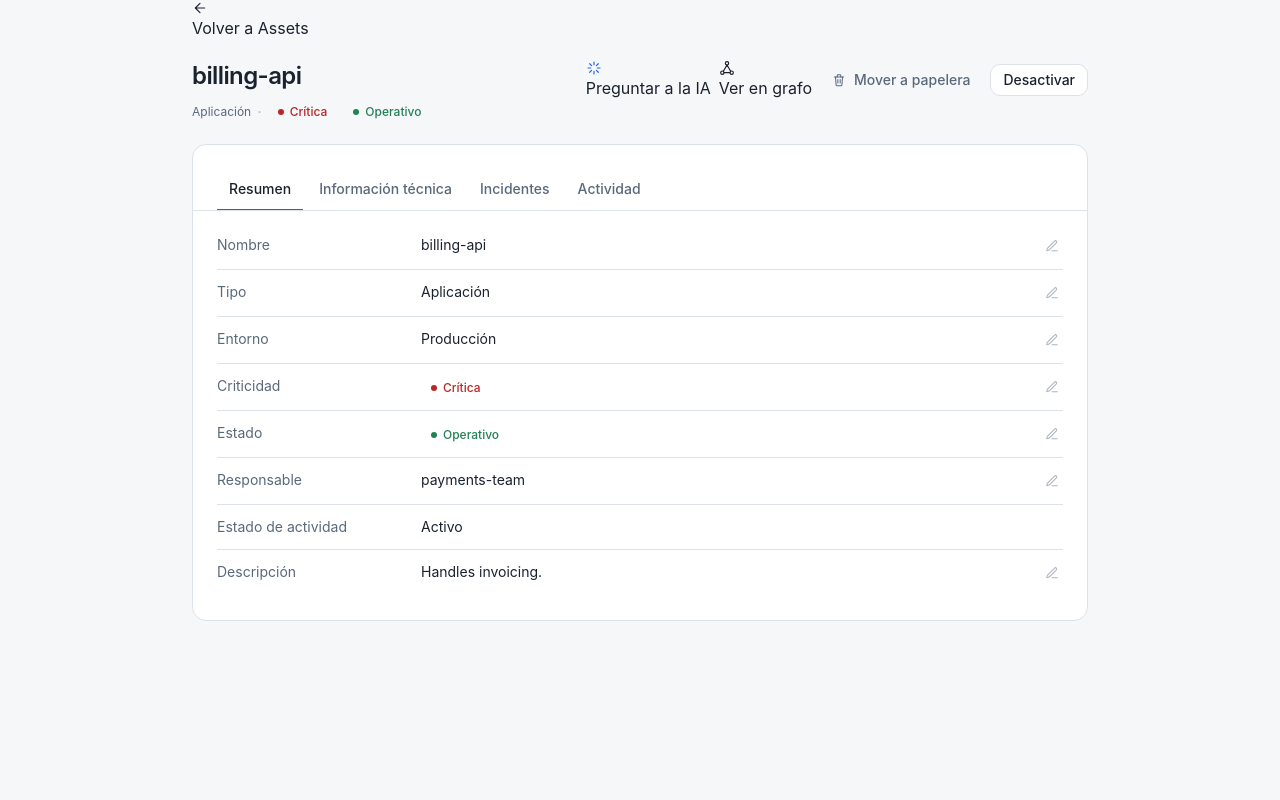
Test: AssetDetail (full page) › keeps the confirm dialog open and shows an error when the soft delete fails
Click the button "Mover a papelera" at (901, 80), box [820,64,982,96]
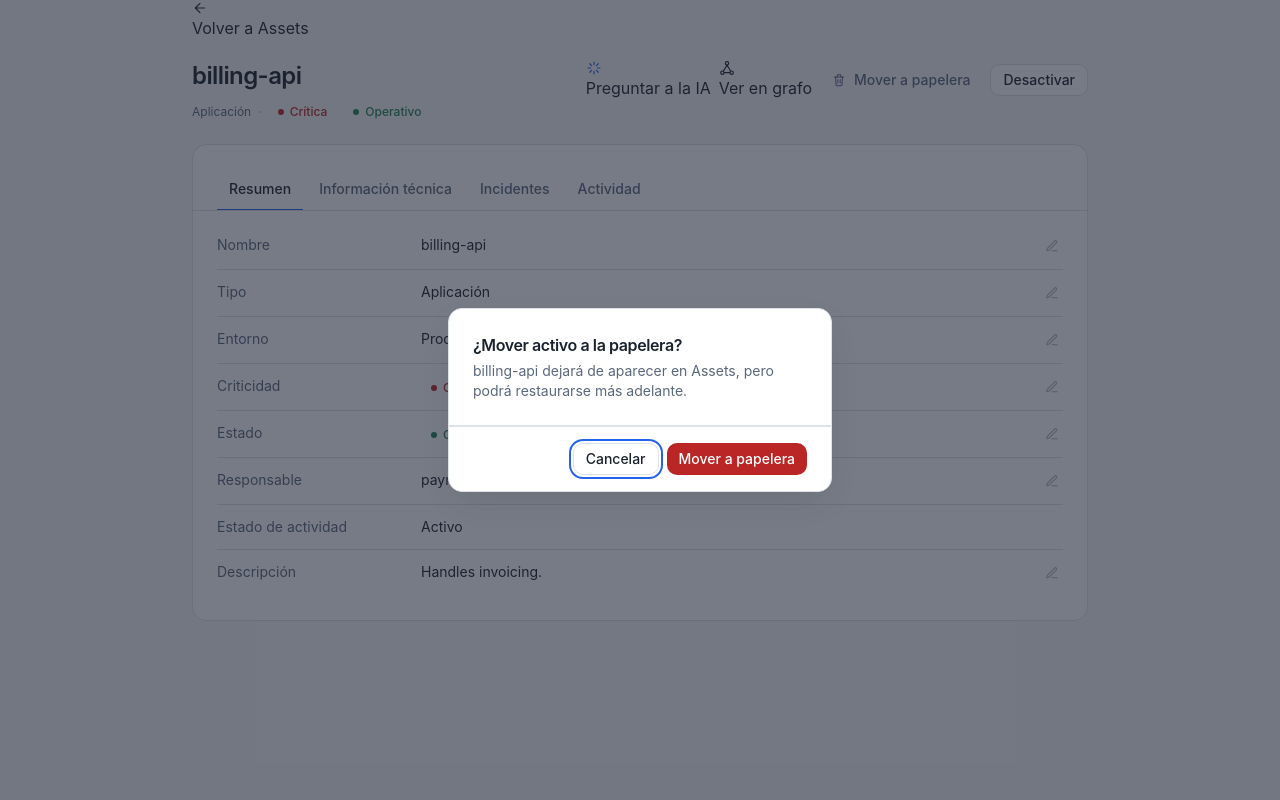
Click the button "Mover a papelera" at (737, 459), box [666,443,807,475]
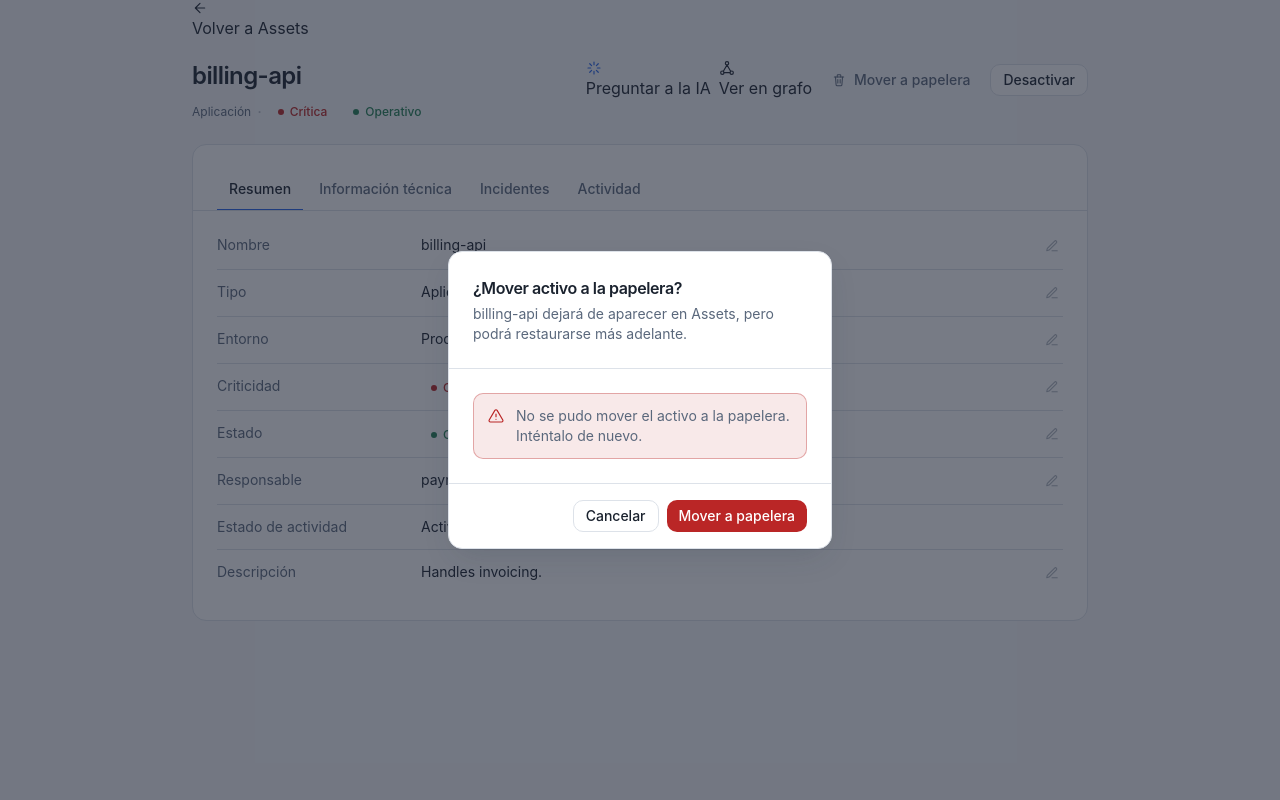
expect the message shows "No se pudo mover el activo": met, box [516,407,790,444]
